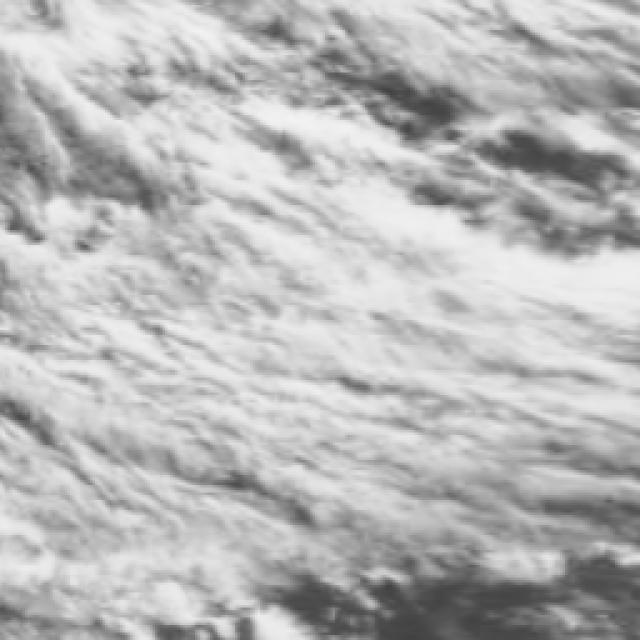CB: (252, 259, 583, 469)
